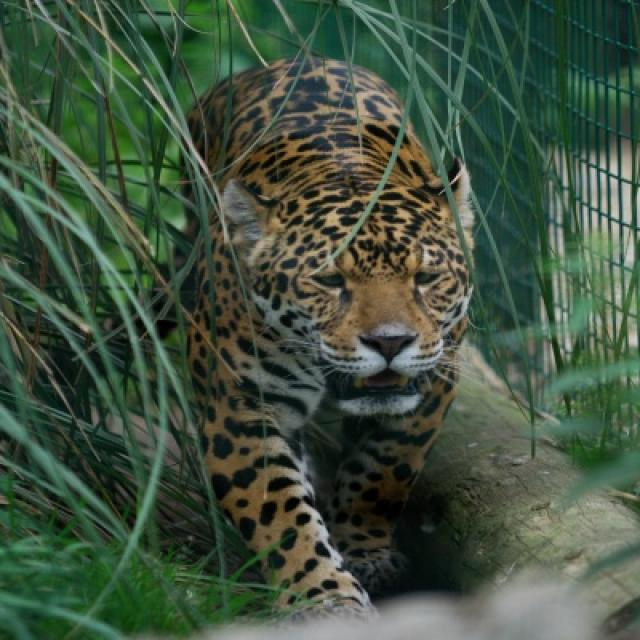Jaguar: (179, 54, 472, 619)
